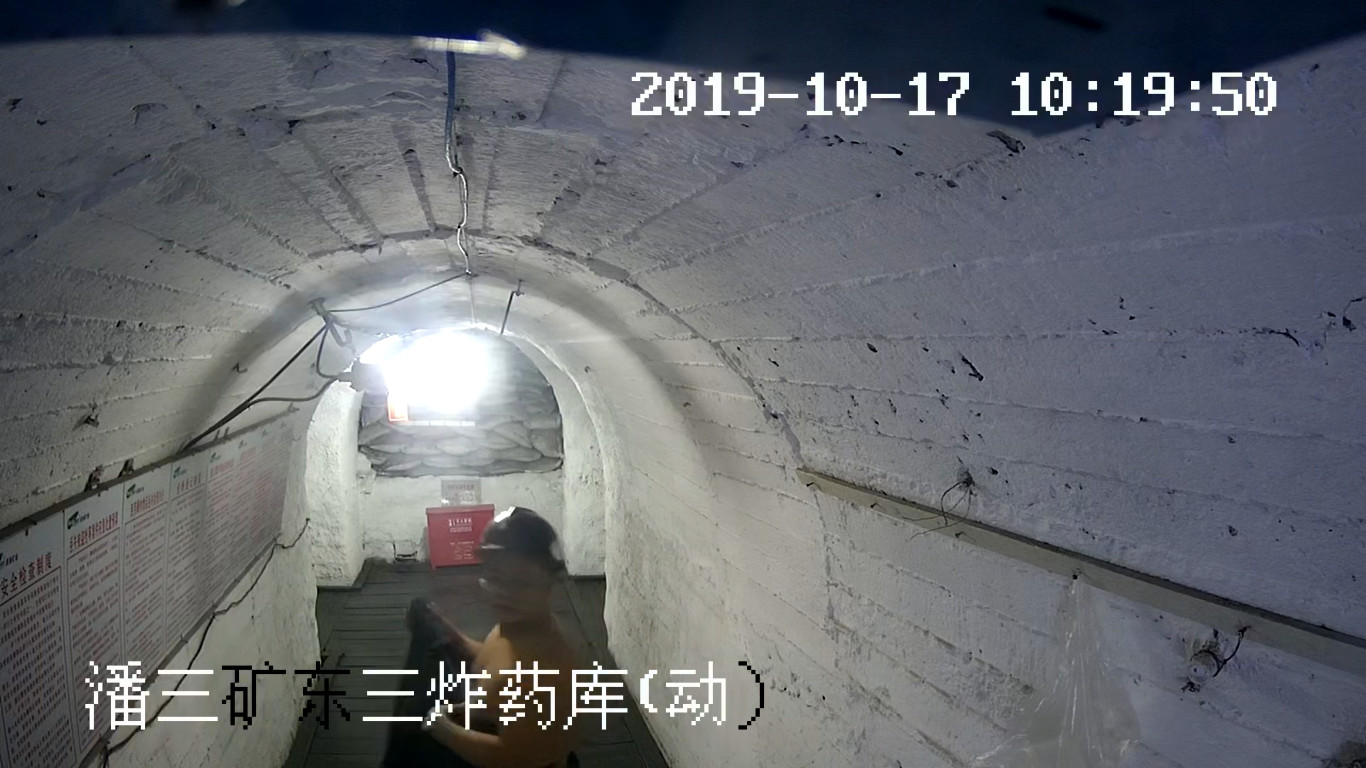helmet: (475, 505, 565, 568)
